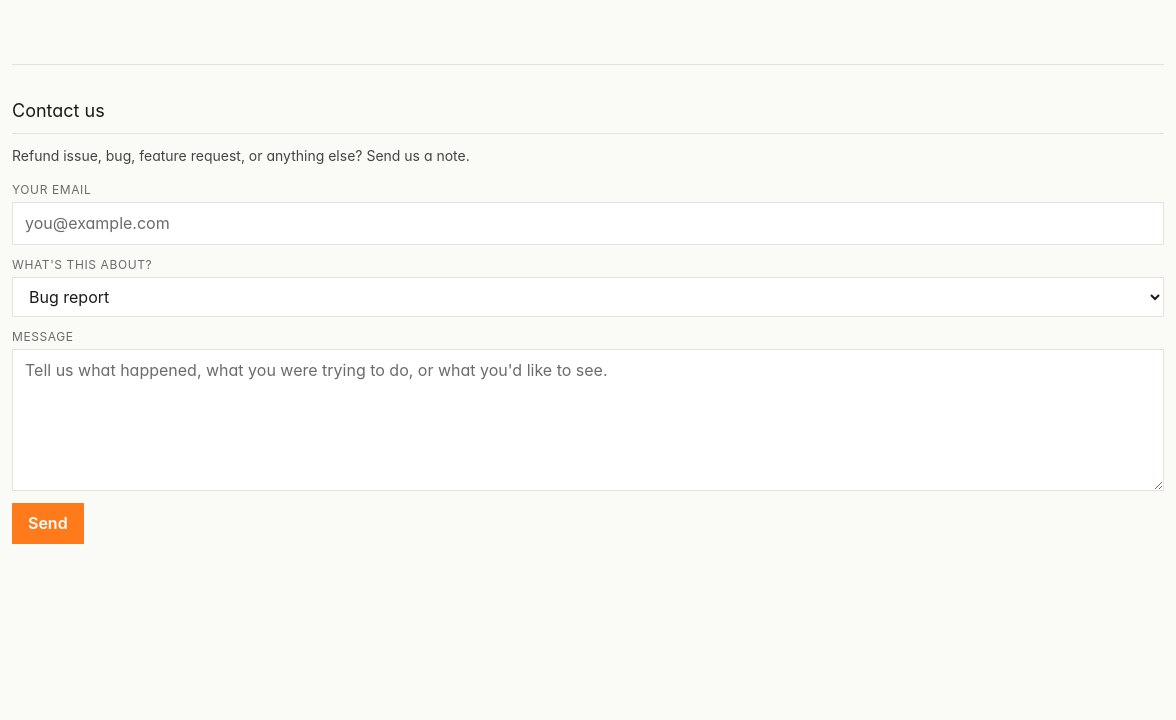
Test: ContactForm › surfaces rate_limited errors
Type "me@example.com" into the field labelled "Your email" at [588, 223], box x1=12 y1=202 x2=1164 y2=245
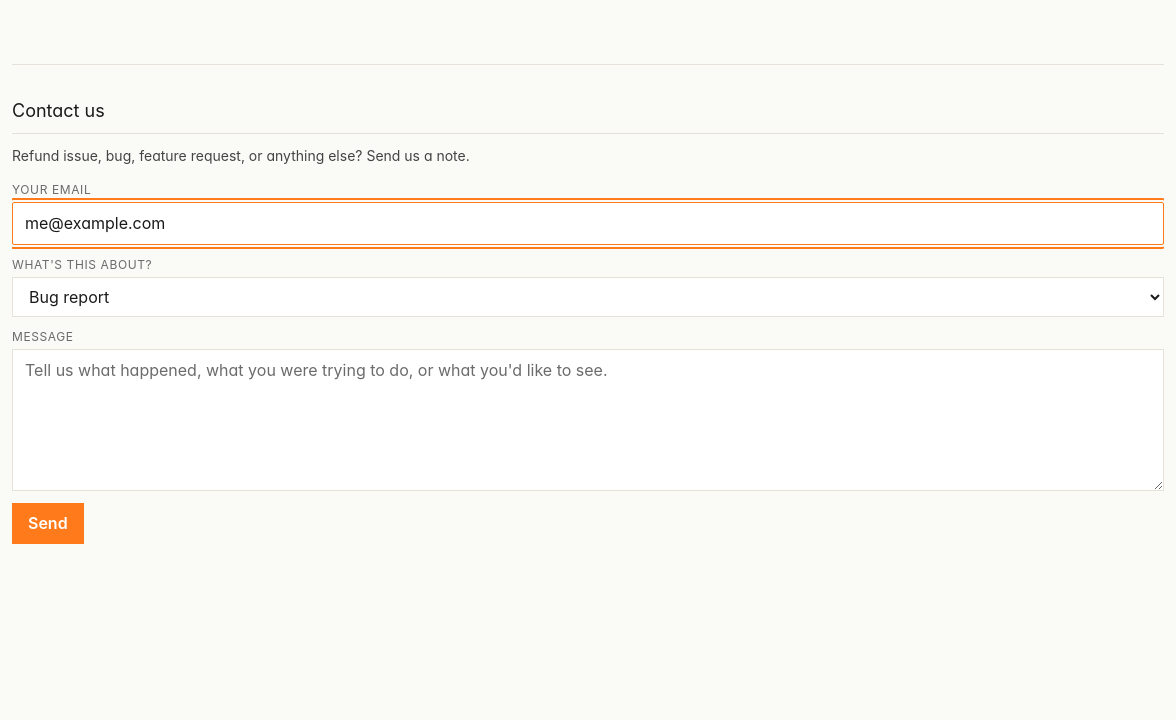
Type "Just a long enough message." into the text box labelled "Message" at [588, 420], box x1=12 y1=349 x2=1164 y2=491
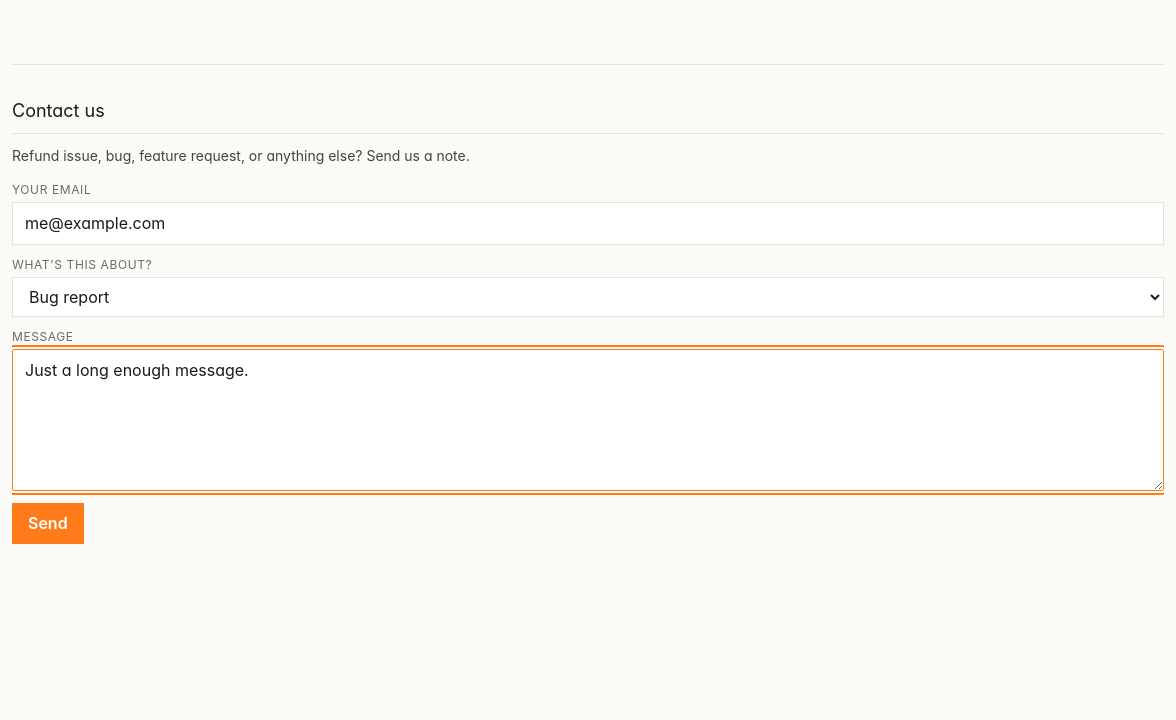
Click the button "Send" at [48, 523], box x1=12 y1=503 x2=84 y2=544
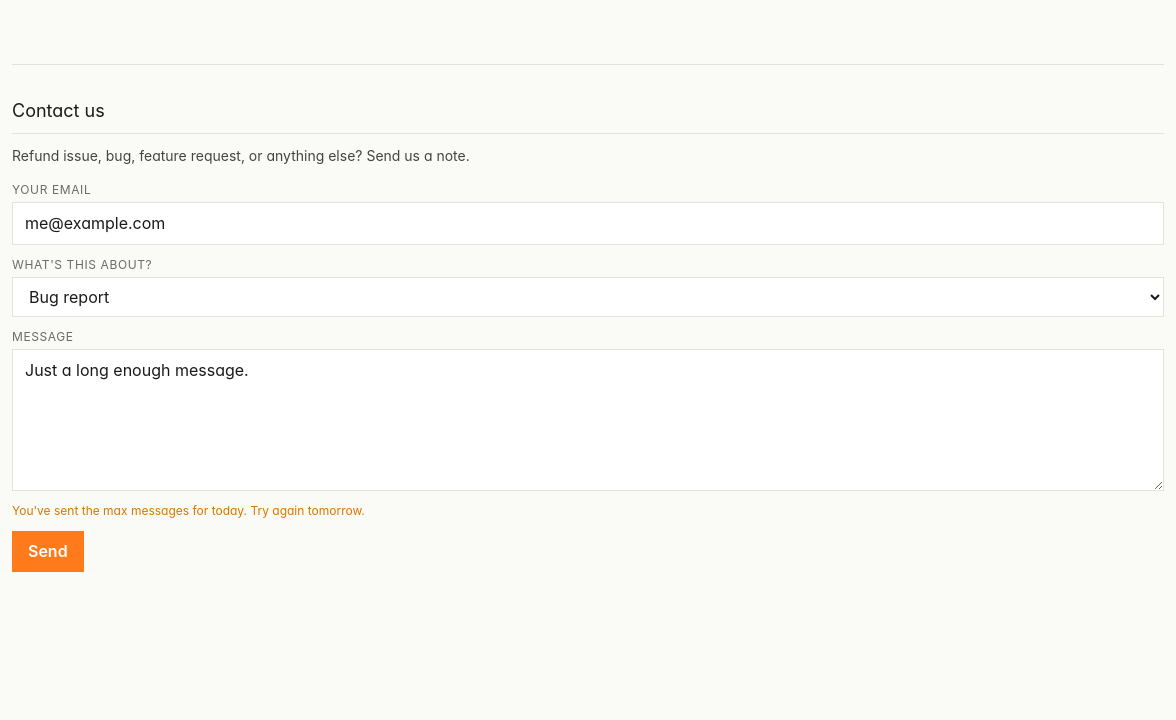
Result: the text "You've sent the max messages for today. Try again tomorrow." is shown at x1=12 y1=503 x2=365 y2=518
